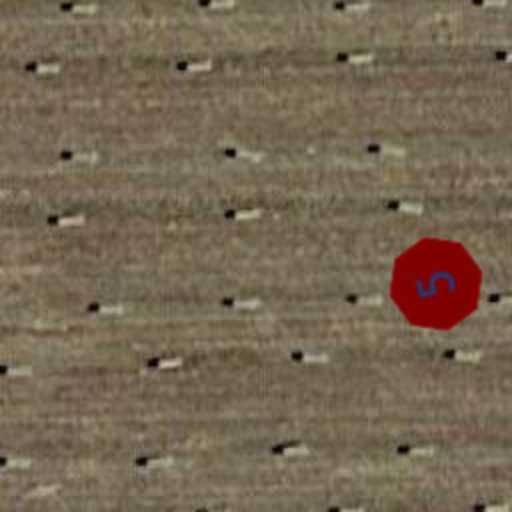octagon: (376, 224, 496, 344)
